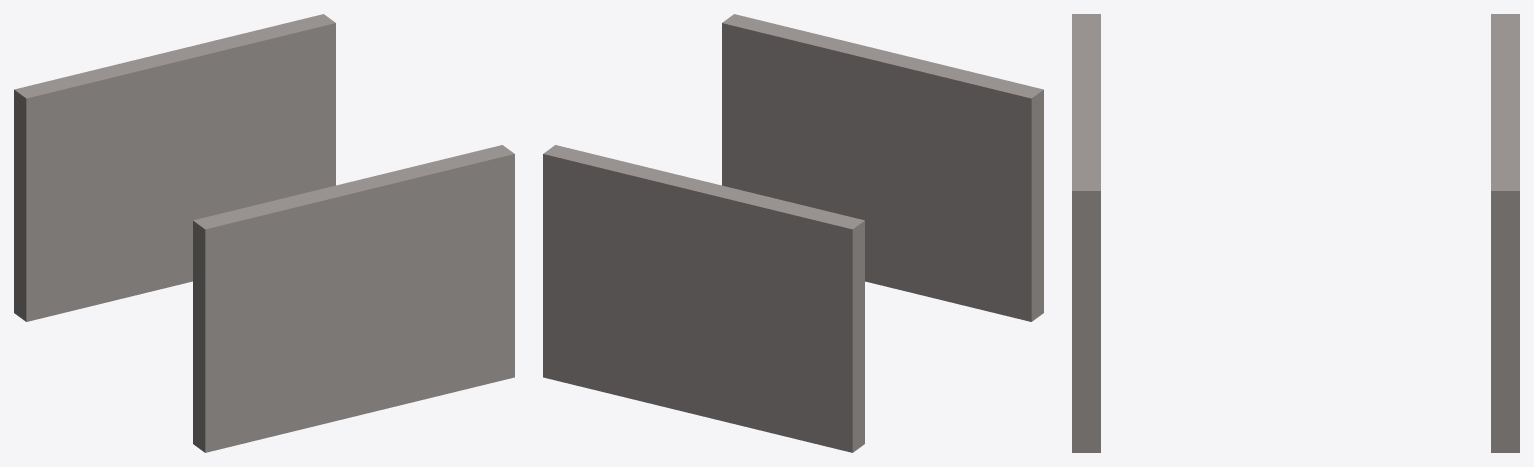
File: bridge-pillars-large-straight.glb
3 views of the same model, side by side, from view 1: azimuth 30°, elevation 25°; view 2: azimuth 150°, elevation 25°; view 3: azimuth 270°, elevation 25° (orthographic). The views are drawn at different scales.
Parts seen in each view (by area): view 1: bridge-pillars-large-straight; view 2: bridge-pillars-large-straight; view 3: bridge-pillars-large-straight.
Boxes of the visible parts, x1,y1,x2,y2 form: bridge-pillars-large-straight: (14, 14, 514, 452); bridge-pillars-large-straight: (543, 14, 1043, 452); bridge-pillars-large-straight: (1072, 14, 1519, 452).
Size of the model in its own units: 14.5 by 10 by 15.5.
1 material, 1 textured.
